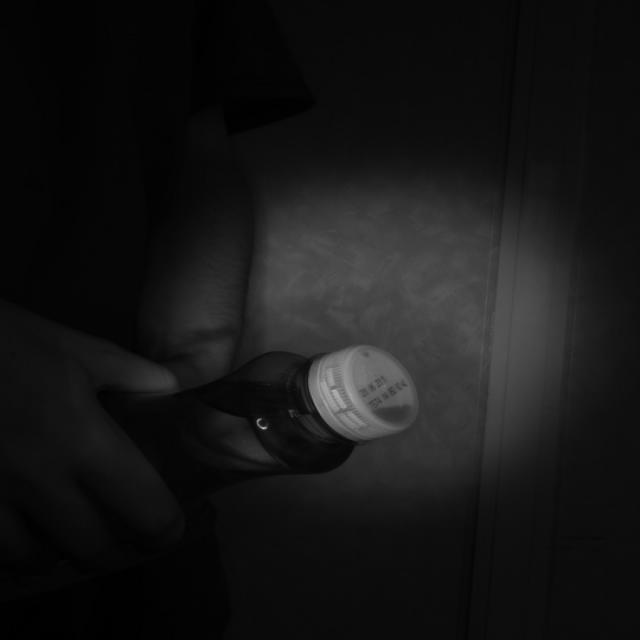Good: (303, 339, 424, 445)
